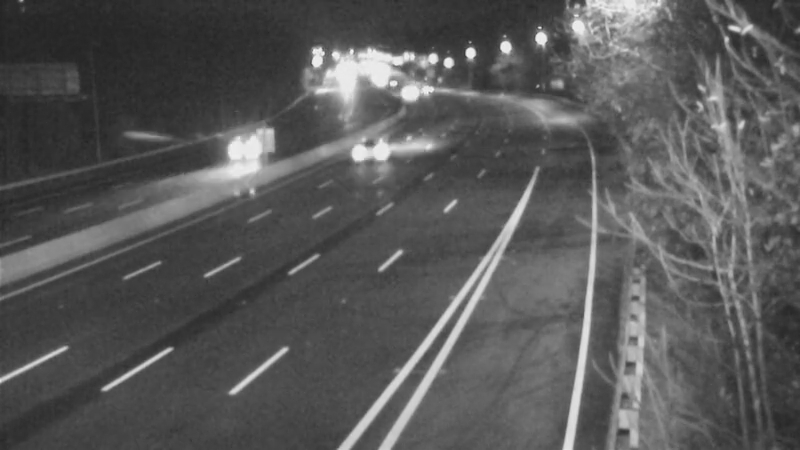vehicle: (202, 111, 282, 191), (380, 67, 430, 117), (348, 117, 398, 167)
